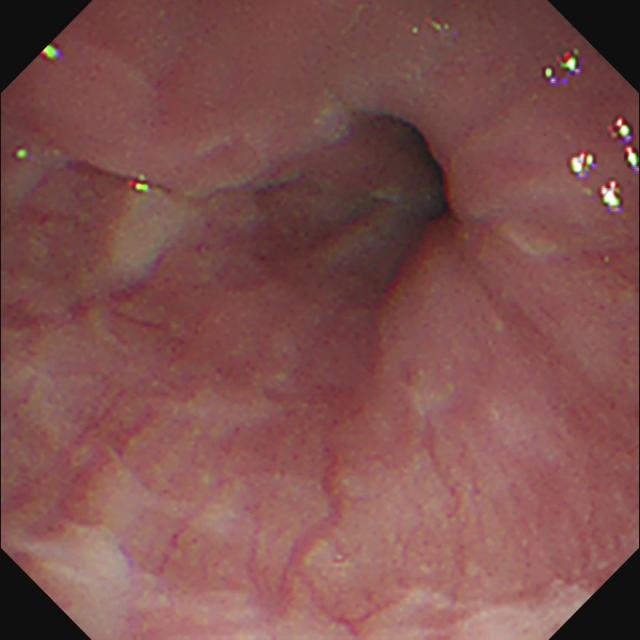E: (373, 114, 470, 228)
J: (100, 186, 193, 285)
U: (609, 116, 640, 174), (569, 152, 597, 180), (601, 180, 624, 214)
